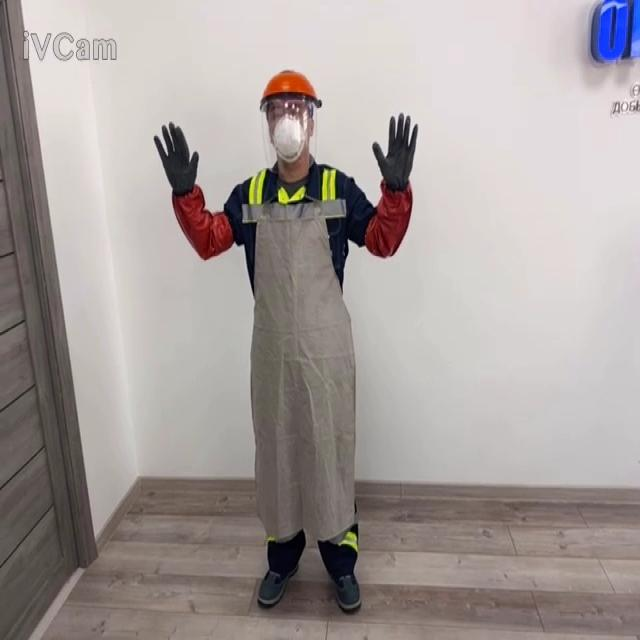Gloves: (372, 112, 418, 191), (153, 120, 199, 196)
Mask: (266, 100, 310, 164)
Protective apron: (242, 167, 357, 544)
Safety Shoes: (256, 562, 299, 606), (334, 570, 361, 610)
Sleeve: (171, 183, 234, 260), (364, 177, 412, 259)
